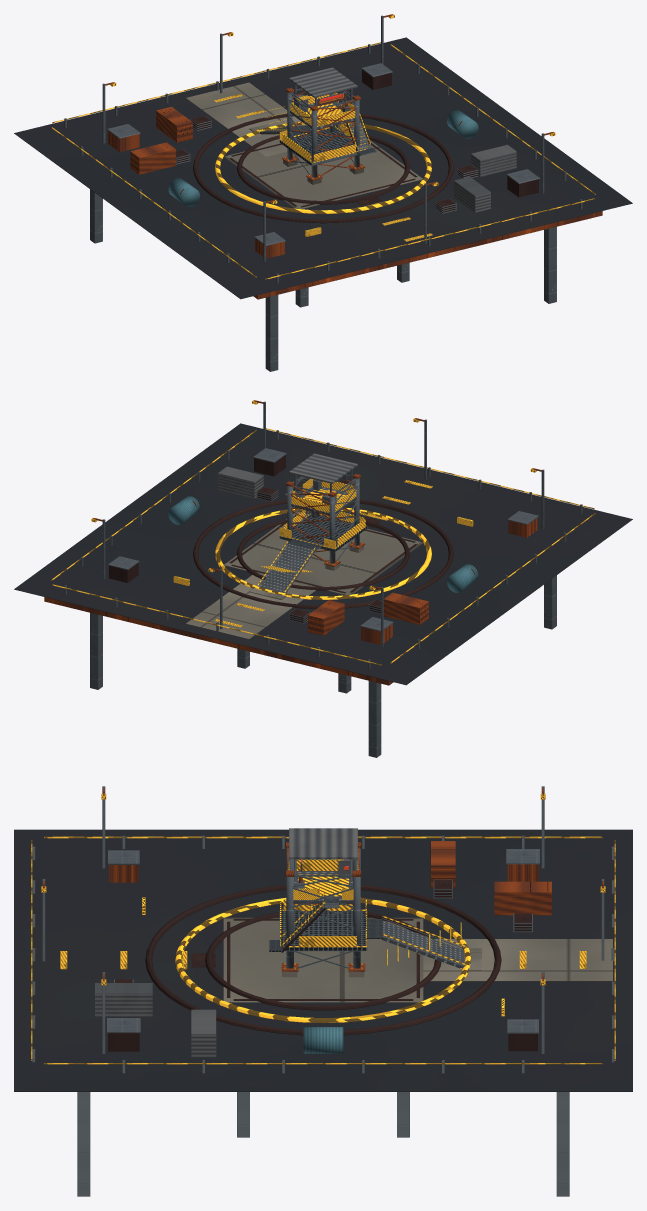
The model's file is rustworks-central-tower.glb.
The picture shows the model from 3 angles, top to bottom: view 1: azimuth 30°, elevation 25°; view 2: azimuth 150°, elevation 25°; view 3: azimuth 270°, elevation 25°; orthographic projection. The views are drawn at different scales.
Parts seen in each view (by area): view 1: RW_asphalt_pad, RW_hardstand, RW_service_lane, RW_apron_ring_2, RW_apron_ring_1, RW_rig_deck_slab, RW_apron_ring_0, RW_canopy_roof, RW_shipping_container_0, RW_shipping_container_1, RW_lower_deck, RW_rig_leg_0 (+8 smaller); view 2: RW_asphalt_pad, RW_hardstand, RW_service_lane, RW_apron_ring_2, RW_apron_ring_1, RW_rig_deck_slab, RW_apron_ring_0, RW_lower_ramp_shell, RW_lower_deck, RW_canopy_roof, RW_shipping_container_0, RW_shipping_container_1 (+8 smaller); view 3: RW_asphalt_pad, RW_hardstand, RW_service_lane, RW_apron_ring_2, RW_apron_ring_1, RW_apron_ring_0, RW_canopy_roof, RW_shipping_container_2, RW_shipping_container_3, RW_lower_deck, RW_lower_ramp_shell, RW_rig_leg_2 (+15 smaller).
Boxes of the visible parts, bbox=[...] form: RW_asphalt_pad: bbox=[14, 37, 632, 299]; RW_hardstand: bbox=[223, 126, 422, 209]; RW_service_lane: bbox=[186, 82, 306, 156]; RW_apron_ring_2: bbox=[193, 113, 453, 223]; RW_apron_ring_1: bbox=[215, 122, 431, 213]; RW_rig_deck_slab: bbox=[253, 211, 602, 299]; RW_apron_ring_0: bbox=[237, 135, 409, 204]; RW_canopy_roof: bbox=[289, 67, 357, 97]; RW_shipping_container_0: bbox=[130, 142, 175, 174]; RW_shipping_container_1: bbox=[471, 144, 516, 176]; RW_lower_deck: bbox=[279, 127, 358, 165]; RW_rig_leg_0: bbox=[265, 295, 278, 371]; RW_asphalt_pad: bbox=[14, 423, 632, 685]; RW_hardstand: bbox=[224, 512, 423, 595]; RW_service_lane: bbox=[186, 573, 315, 639]; RW_apron_ring_2: bbox=[193, 499, 453, 608]; RW_apron_ring_1: bbox=[215, 508, 431, 599]; RW_rig_deck_slab: bbox=[44, 597, 393, 685]; RW_apron_ring_0: bbox=[237, 519, 409, 590]; RW_lower_ramp_shell: bbox=[260, 544, 314, 592]; RW_lower_deck: bbox=[279, 514, 367, 551]; RW_canopy_roof: bbox=[289, 453, 357, 483]; RW_shipping_container_0: bbox=[383, 592, 428, 624]; RW_shipping_container_1: bbox=[218, 466, 263, 498]; RW_asphalt_pad: bbox=[14, 829, 632, 1091]; RW_hardstand: bbox=[223, 917, 423, 1002]; RW_service_lane: bbox=[423, 939, 612, 981]; RW_apron_ring_2: bbox=[145, 885, 501, 1035]; RW_apron_ring_1: bbox=[175, 898, 470, 1023]; RW_apron_ring_0: bbox=[205, 912, 441, 1010]; RW_canopy_roof: bbox=[289, 828, 357, 859]; RW_shipping_container_2: bbox=[494, 881, 551, 915]; RW_shipping_container_3: bbox=[95, 983, 152, 1016]; RW_lower_deck: bbox=[279, 911, 367, 950]; RW_lower_ramp_shell: bbox=[381, 920, 464, 968]; RW_rig_leg_2: bbox=[77, 1092, 90, 1196].
Size of the model in its own units: 62 by 28.57 by 62.
11 materials, 11 textured.
